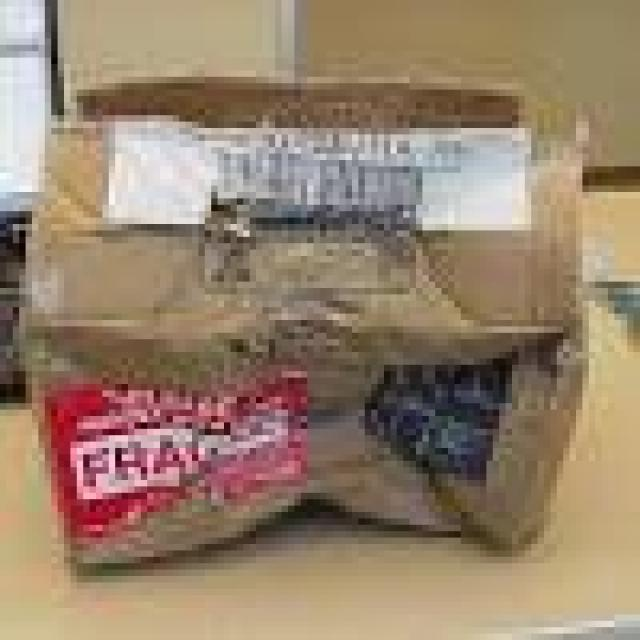squeeze: (26, 83, 533, 536)
